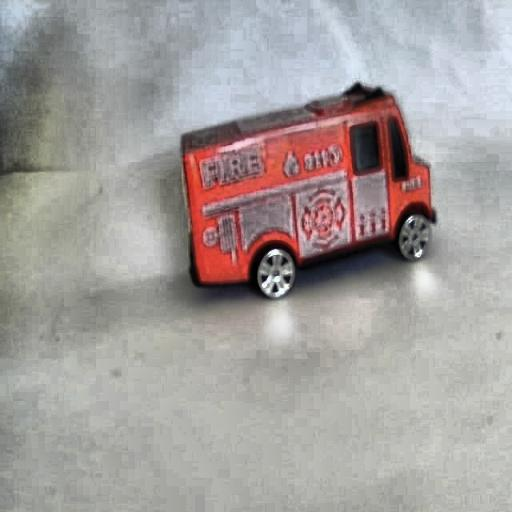fire_truck: (179, 83, 436, 298)
